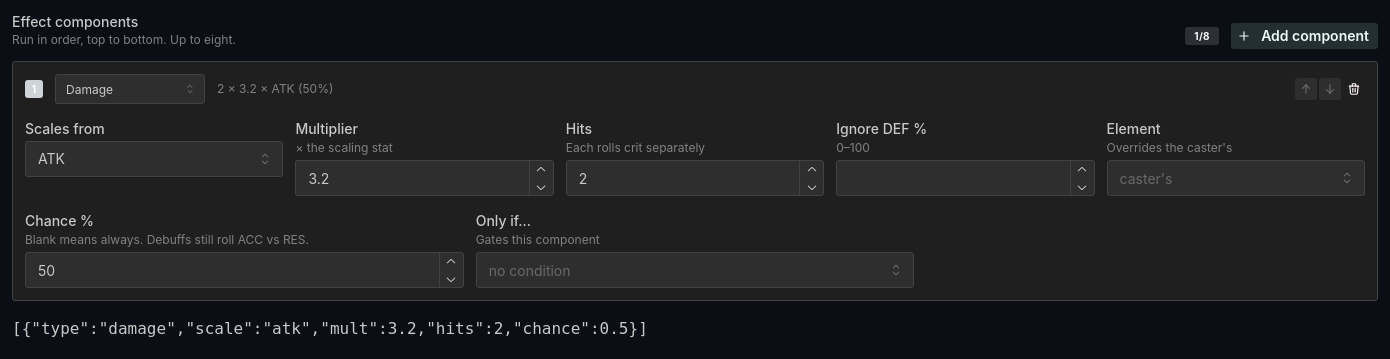
Scenario: EffectComponentEditor › swaps the field set when a component is retyped, keeping shared values
Click the field named "Component 1 type": coordinates (130, 89) [55,74,205,104]
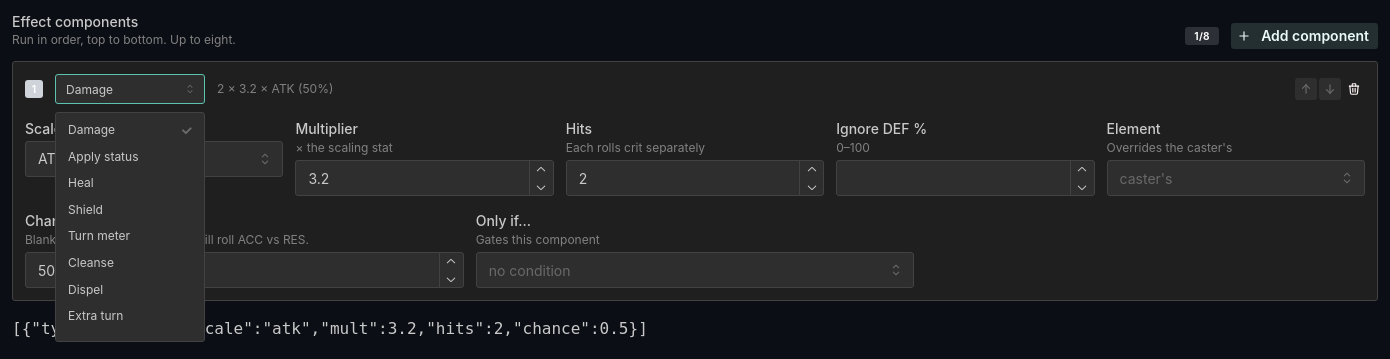
Click the option "Shield": coordinates (86, 209) [68,202,103,217]
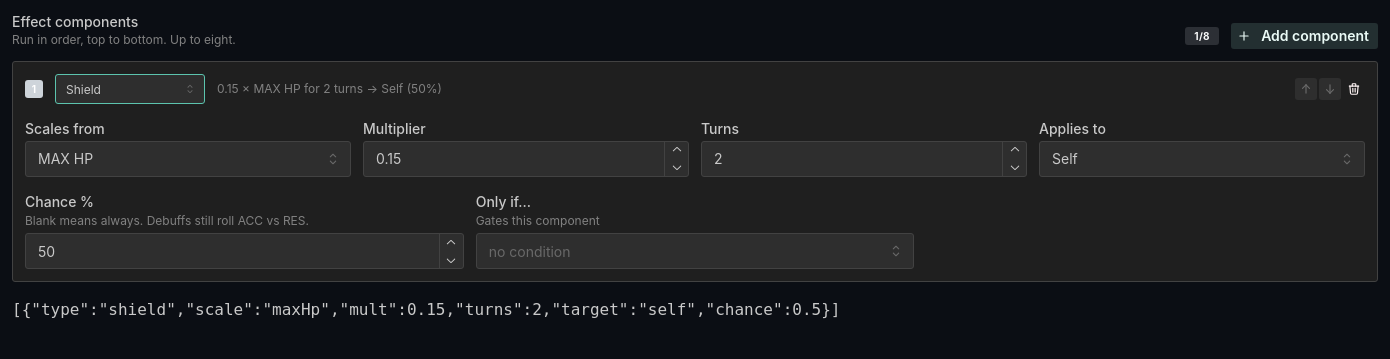
Expected: the label "Hits" is gone
